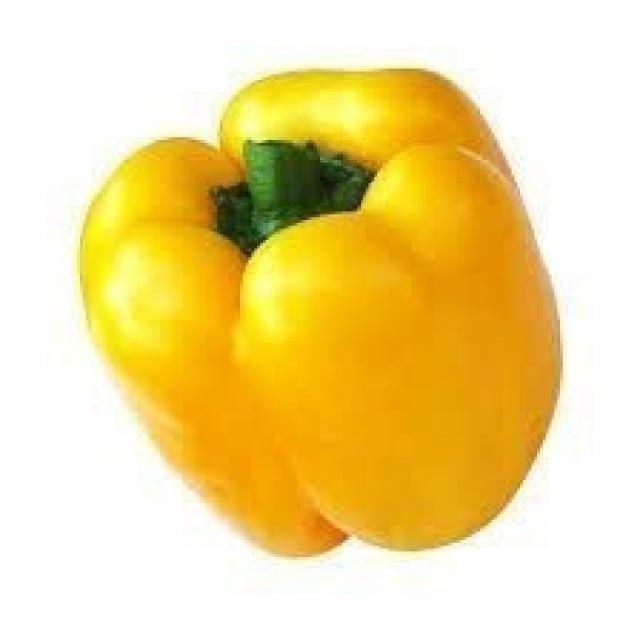Bell Pepper: (48, 33, 612, 600)
